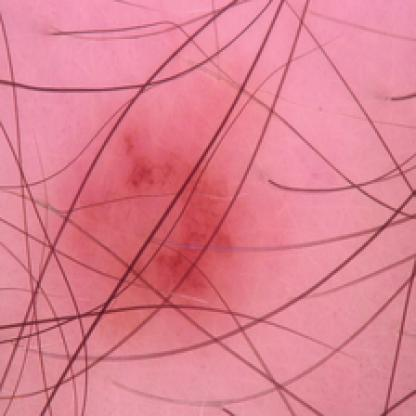benign: (83, 141, 262, 307)
